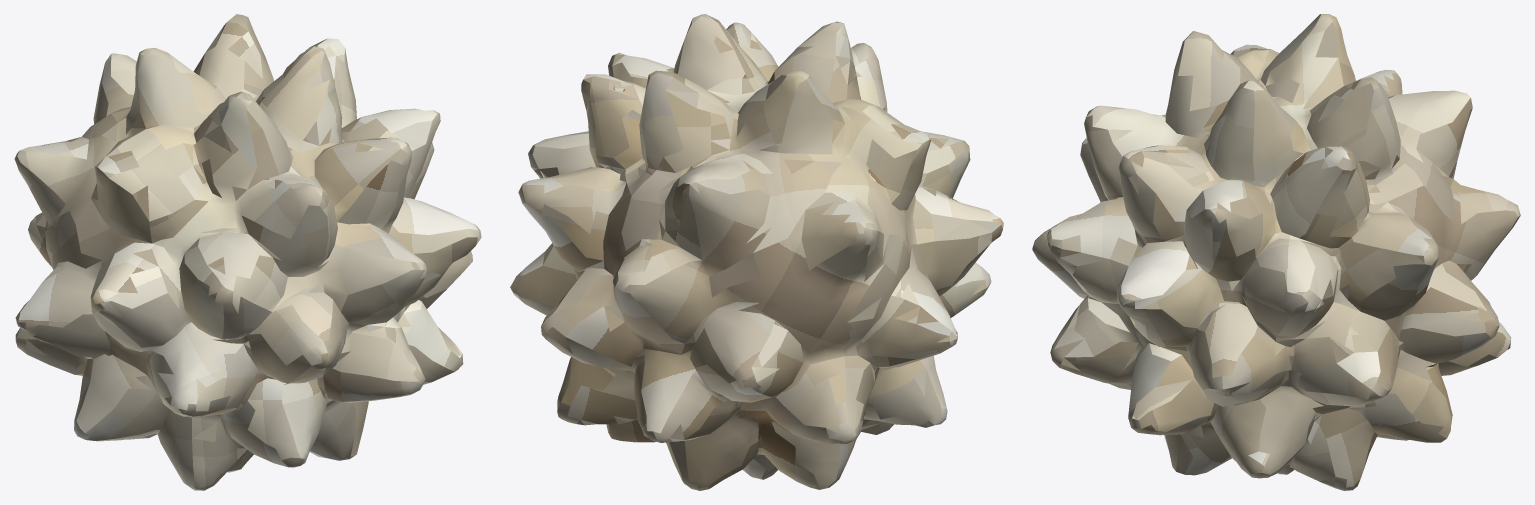
Rendered from konpeito.glb.
3 views of the same model, side by side, from view 1: azimuth 30°, elevation 25°; view 2: azimuth 150°, elevation 25°; view 3: azimuth 270°, elevation 25° (orthographic). The views are drawn at different scales.
Parts seen in each view (by area): view 1: YVO3D.obj; view 2: YVO3D.obj; view 3: YVO3D.obj.
Part boxes in pixels (x1,y1,x2,y2): YVO3D.obj: (14,14,481,490); YVO3D.obj: (510,14,1003,490); YVO3D.obj: (1032,14,1520,490).
Size of the model in its own units: 0.9941 by 0.9628 by 0.9961.
Materials: 1 (1 with a texture image).
